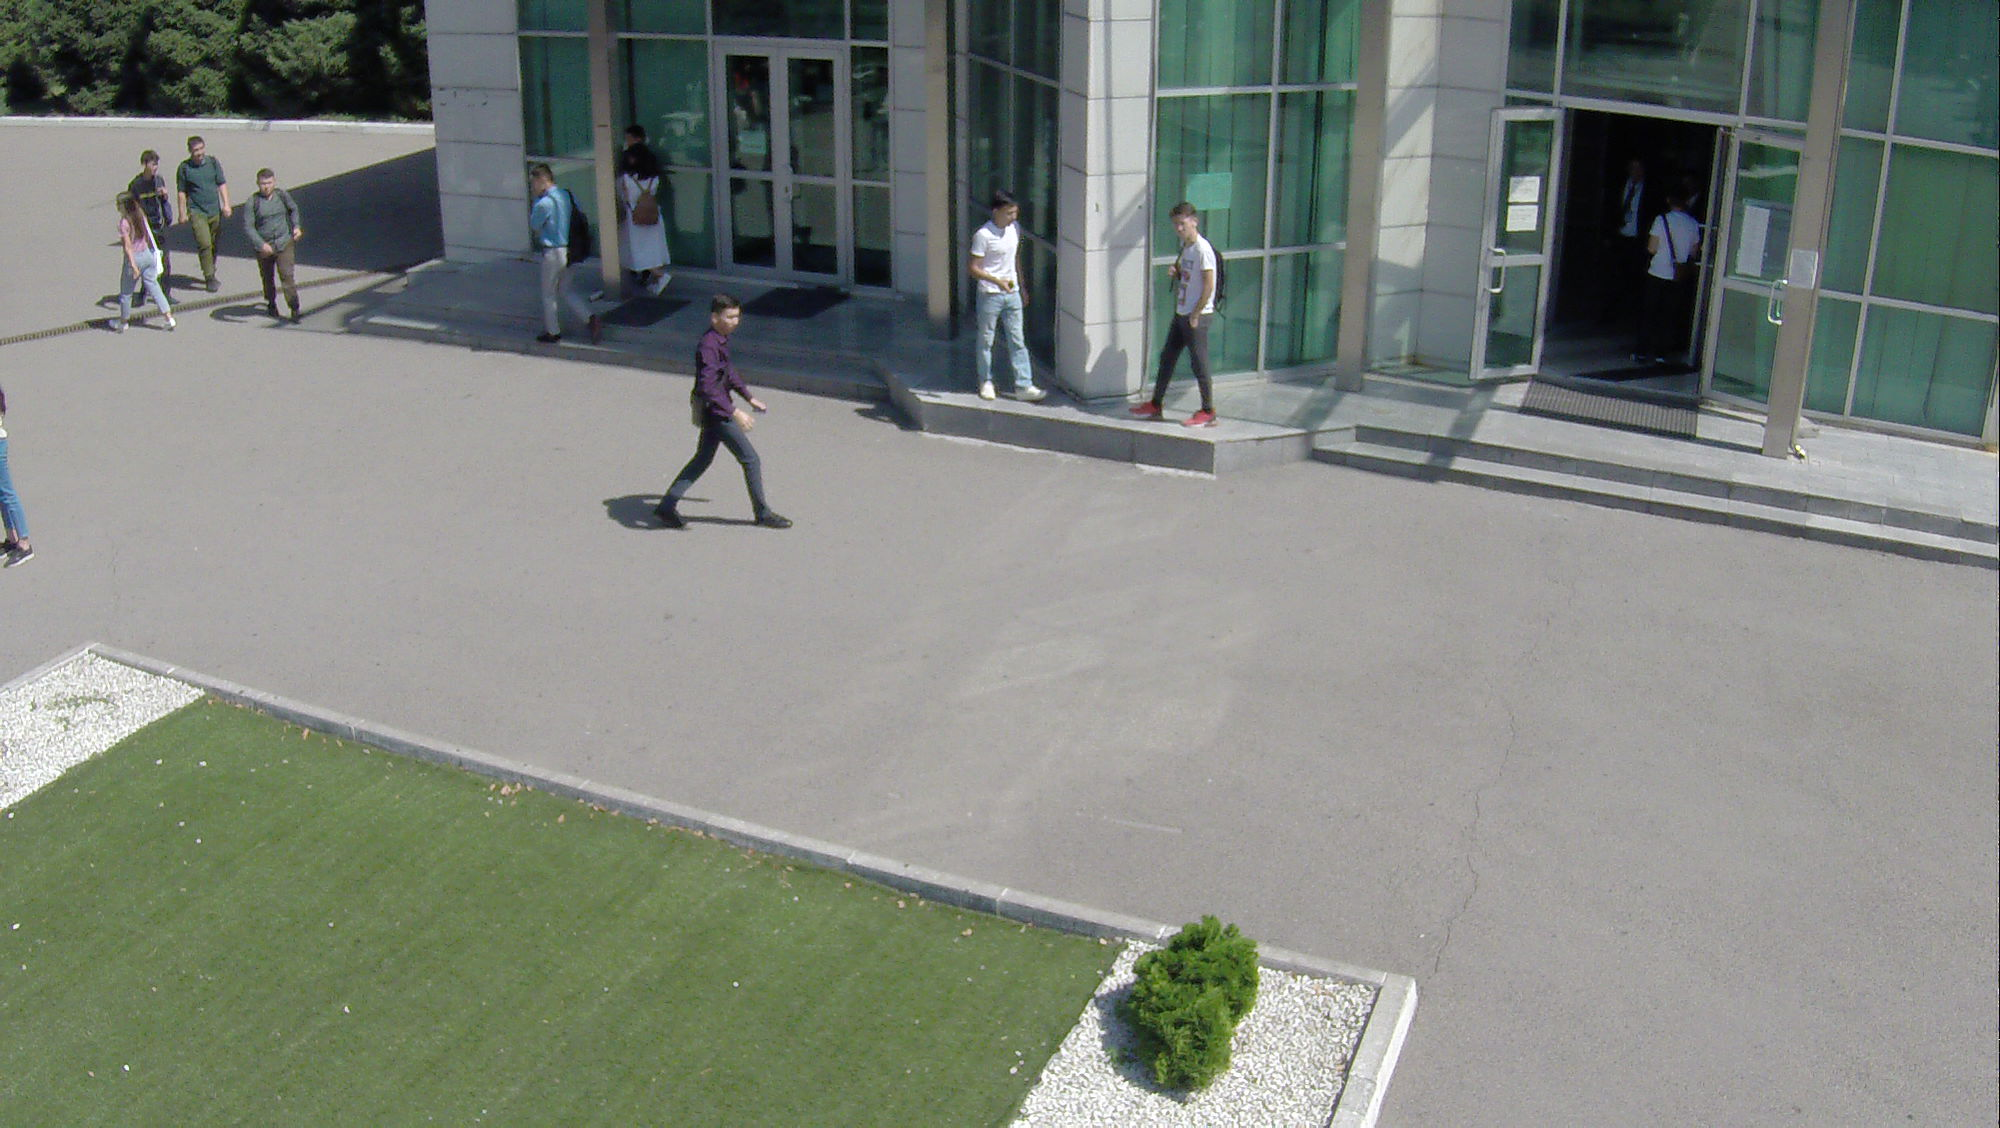person: (641, 282, 798, 546), (1130, 202, 1234, 434), (960, 182, 1051, 414), (526, 158, 595, 357), (1638, 184, 1705, 382), (108, 190, 179, 342), (248, 167, 311, 334), (623, 139, 679, 306), (179, 130, 228, 304), (130, 147, 171, 241)
